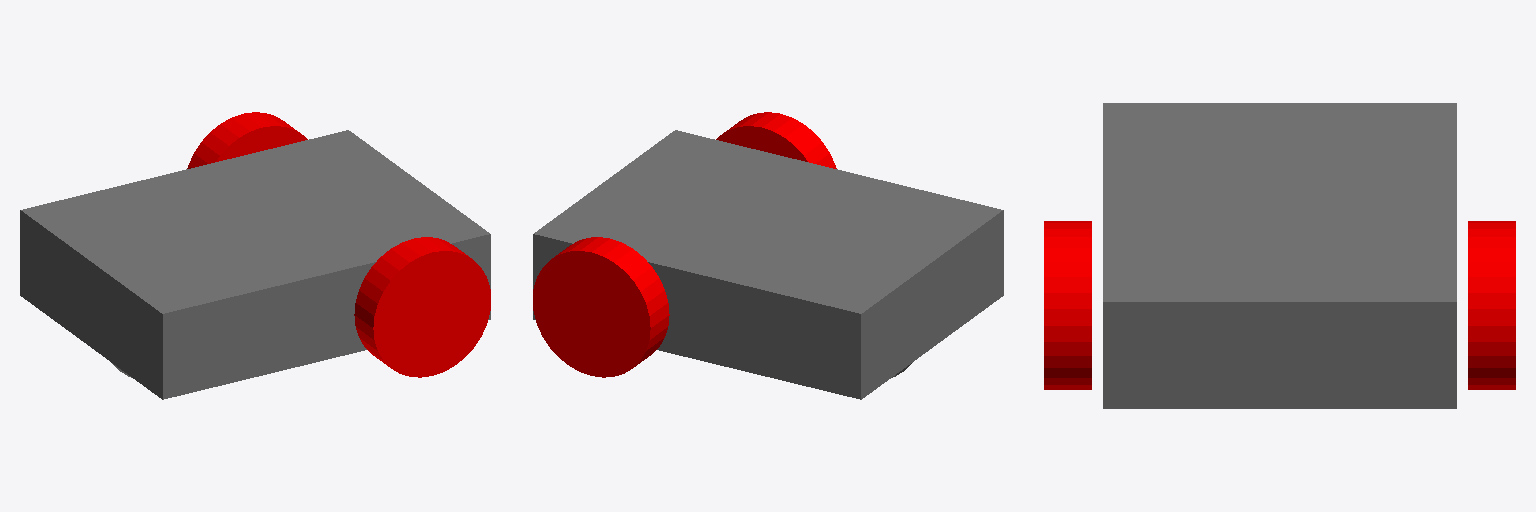
The robot description file, URDF, robot "dtw_robot":
<?xml version="1.0"?>
<robot name="dtw_robot">
  <material name="gray">
    <color rgba="0.5 0.5 0.5 1.0"/>
  </material>
  <material name="red">
    <color rgba="1.0 0.0 0.0 1.0"/>
  </material>

  <link name="base_link"/>

  <joint name="body_joint" type="fixed">
    <origin xyz="0 0 0.1" rpy="0 0 0" />
    <parent link="base_link"/>
    <child  link="body_link"/>
  </joint>
  <link name="body_link">
    <visual>
      <origin xyz="-0.1 0 0" rpy="0 0 0" />
      <geometry>
        <box size="0.4 0.3 0.1" />
      </geometry>
      <material name="gray" />
    </visual>
  </link>

  <joint name="back_ball_joint" type="fixed">
    <origin xyz="-0.23 0 -0.05" rpy="0 0 0" />
    <parent link="body_link"/>
    <child  link="back_ball_link"/>
  </joint>
  <link name="back_ball_link">
    <visual>
      <geometry>
        <sphere radius="0.05" />
      </geometry>
      <material name="gray" />
    </visual>
  </link>

  <joint name="left_wheel_joint" type="fixed">
    <origin xyz="0 0.18 0" rpy="-1.5707 0 0" />
    <parent link="body_link"/>
    <child  link="left_wheel_link"/>
  </joint>
  <link name="left_wheel_link">
    <visual>
      <geometry>
        <cylinder length="0.04" radius="0.072" />
      </geometry>
      <material name="red" />
    </visual>
  </link>

  <joint name="right_wheel_joint" type="fixed">
    <origin xyz="0 -0.18 0" rpy="-1.5707 0 0" />
    <parent link="body_link"/>
    <child  link="right_wheel_link"/>
  </joint>
  <link name="right_wheel_link">
    <visual>
      <geometry>
        <cylinder length="0.04" radius="0.072" />
      </geometry>
      <material name="red" />
    </visual>
  </link>
</robot>

--- What the picture shows (computed from the rendered views, not written in the file) ---
The picture shows the robot from 3 angles, left to right: view 1: azimuth 30°, elevation 25°; view 2: azimuth 150°, elevation 25°; view 3: azimuth 270°, elevation 25°; orthographic projection.
Robot: dtw_robot — 5 links, 4 joints (4 fixed); root link base_link; default pose: all joints at 0.
Visible links, largest first — view 1: body_link, right_wheel_link, left_wheel_link; view 2: body_link, left_wheel_link, right_wheel_link; view 3: body_link, left_wheel_link, right_wheel_link.
Link boxes in pixels (x1,y1,x2,y2): body_link: [20, 130, 490, 399]; right_wheel_link: [354, 237, 490, 377]; left_wheel_link: [187, 112, 307, 168]; body_link: [533, 130, 1003, 399]; left_wheel_link: [533, 237, 669, 377]; right_wheel_link: [716, 112, 836, 168]; body_link: [1103, 103, 1456, 408]; left_wheel_link: [1468, 221, 1515, 389]; right_wheel_link: [1044, 221, 1091, 389].
Size in the robot's own frame: 0.4 by 0.4 by 0.172 metres.
Geometry: primitives only (box / cylinder / sphere), no mesh files.